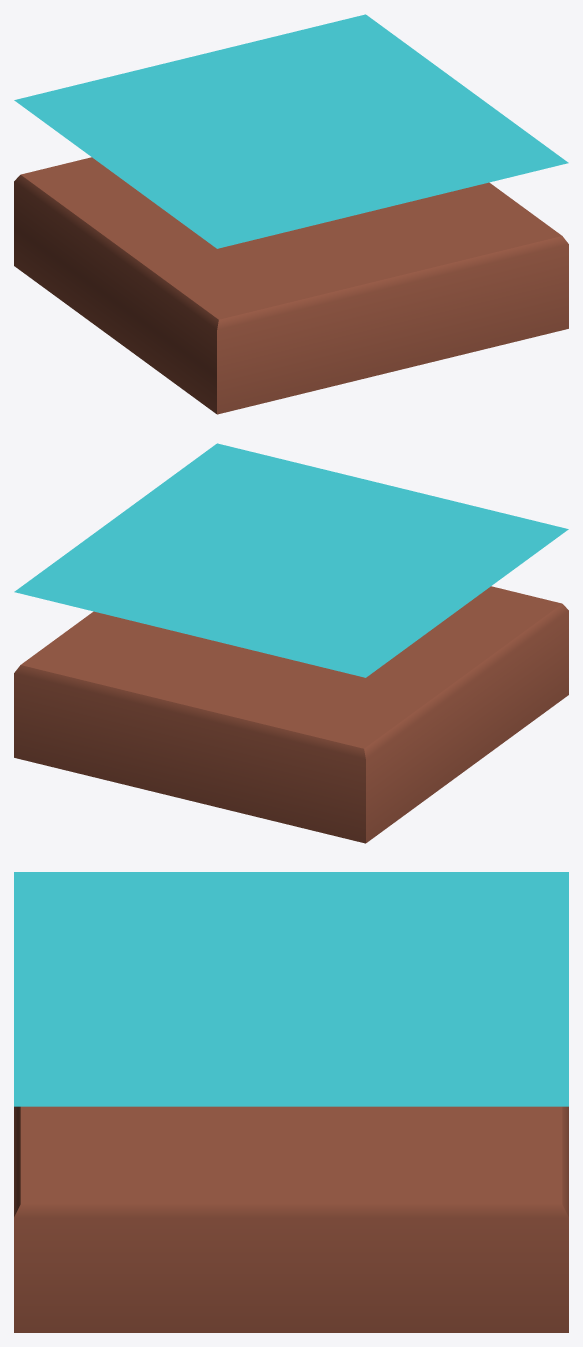
The model's file is square_water_detail_noSides.glb.
3 views of the same model, one above another, from view 1: azimuth 30°, elevation 25°; view 2: azimuth 150°, elevation 25°; view 3: azimuth 270°, elevation 25° (orthographic). The views are drawn at different scales.
Parts seen in each view (by area): view 1: square_water_detail_noSides; view 2: square_water_detail_noSides; view 3: square_water_detail_noSides.
Boxes of the visible parts, bbox=[...] form: square_water_detail_noSides: bbox=[14, 14, 568, 414]; square_water_detail_noSides: bbox=[14, 443, 568, 843]; square_water_detail_noSides: bbox=[14, 872, 568, 1332].
Size of the model in its own units: 3.82 by 1.72 by 3.82.
